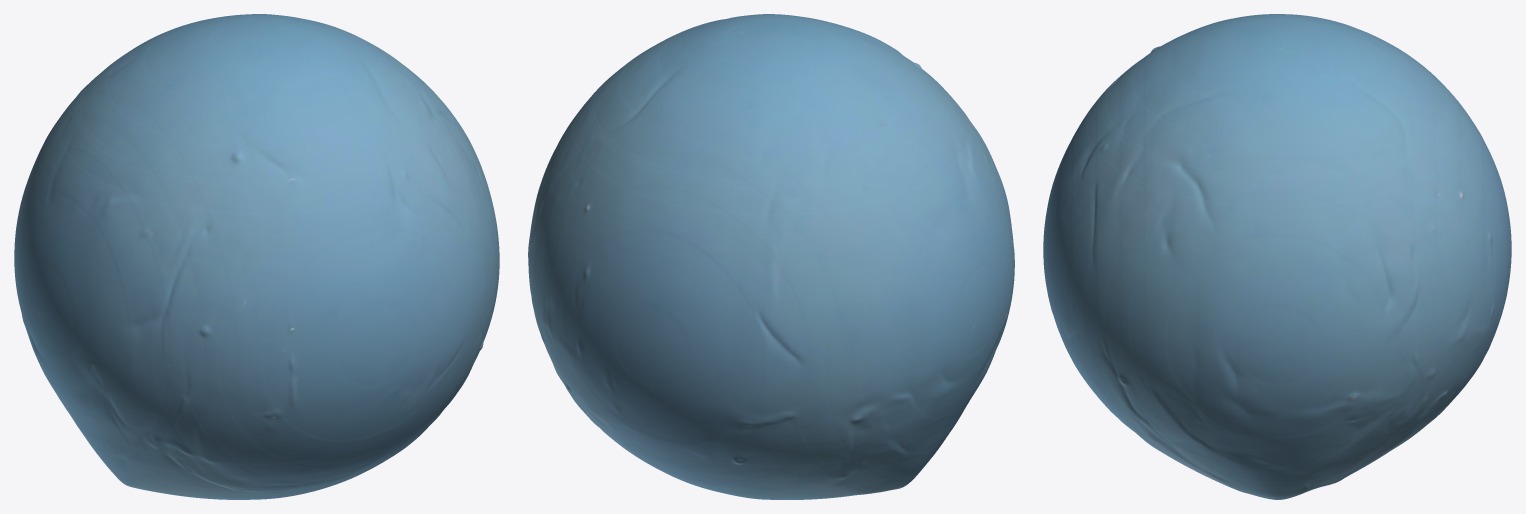
The model's file is detailed_realistic_model_crystalball_19.glb.
3 views of the same model, side by side, from view 1: azimuth 30°, elevation 25°; view 2: azimuth 150°, elevation 25°; view 3: azimuth 270°, elevation 25° (orthographic). The views are drawn at different scales.
Visible parts, largest first — view 1: tripo_node_fdb1a069-73dd-4d23-b2b0-64cf84089e4a; view 2: tripo_node_fdb1a069-73dd-4d23-b2b0-64cf84089e4a; view 3: tripo_node_fdb1a069-73dd-4d23-b2b0-64cf84089e4a.
Boxes of the visible parts, x1,y1,x2,y2 form: tripo_node_fdb1a069-73dd-4d23-b2b0-64cf84089e4a: (14, 14, 499, 499); tripo_node_fdb1a069-73dd-4d23-b2b0-64cf84089e4a: (528, 14, 1014, 499); tripo_node_fdb1a069-73dd-4d23-b2b0-64cf84089e4a: (1043, 14, 1511, 499).
Bounding box in the file's own units: 0.9999 × 1 × 0.998.
Materials: 1 (1 with a texture image).
